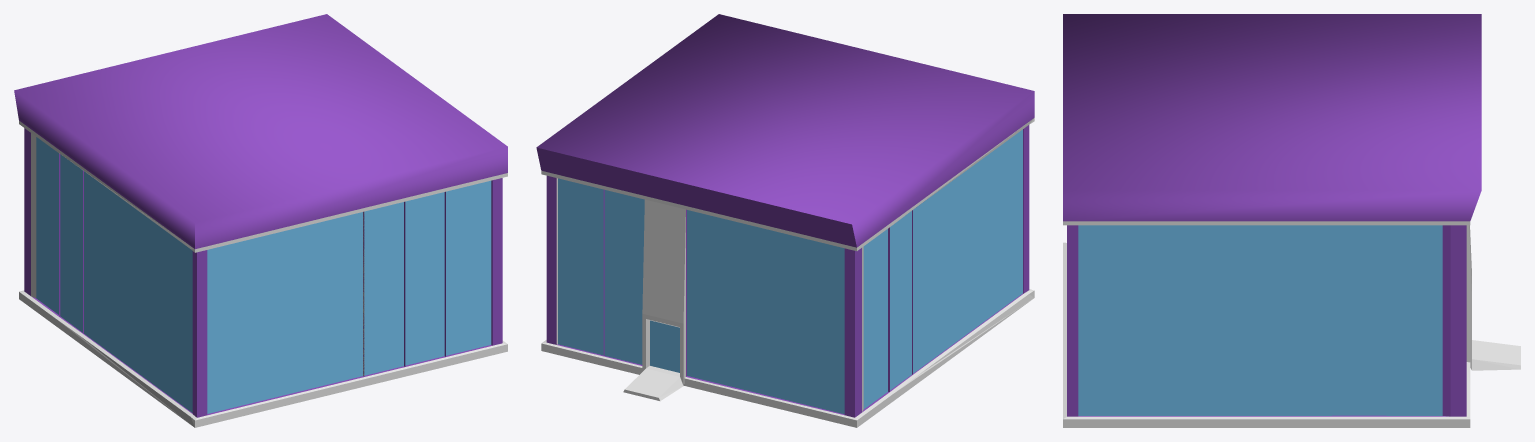
File: Shop8x8x5Purple.fbx
3 views of the same model, side by side, from view 1: azimuth 30°, elevation 25°; view 2: azimuth 150°, elevation 25°; view 3: azimuth 270°, elevation 25° (orthographic). The views are drawn at different scales.
Visible parts, largest first — view 1: Shop.001; view 2: Shop.001; view 3: Shop.001.
Part boxes in pixels (box(x1,y1,x2,y2)): Shop.001: box(14, 14, 507, 427); Shop.001: box(536, 14, 1034, 427); Shop.001: box(1063, 14, 1520, 427).
Size of the model in its own units: 7.96 by 4.99 by 8.72.
1 material, 1 textured.
